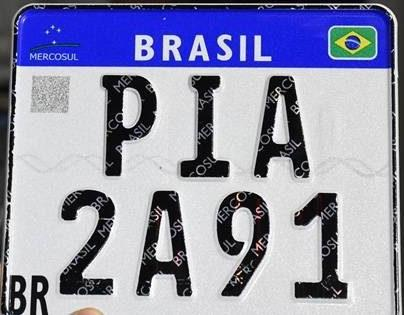Placa_mercosul_carro: (8, 8, 395, 315)
